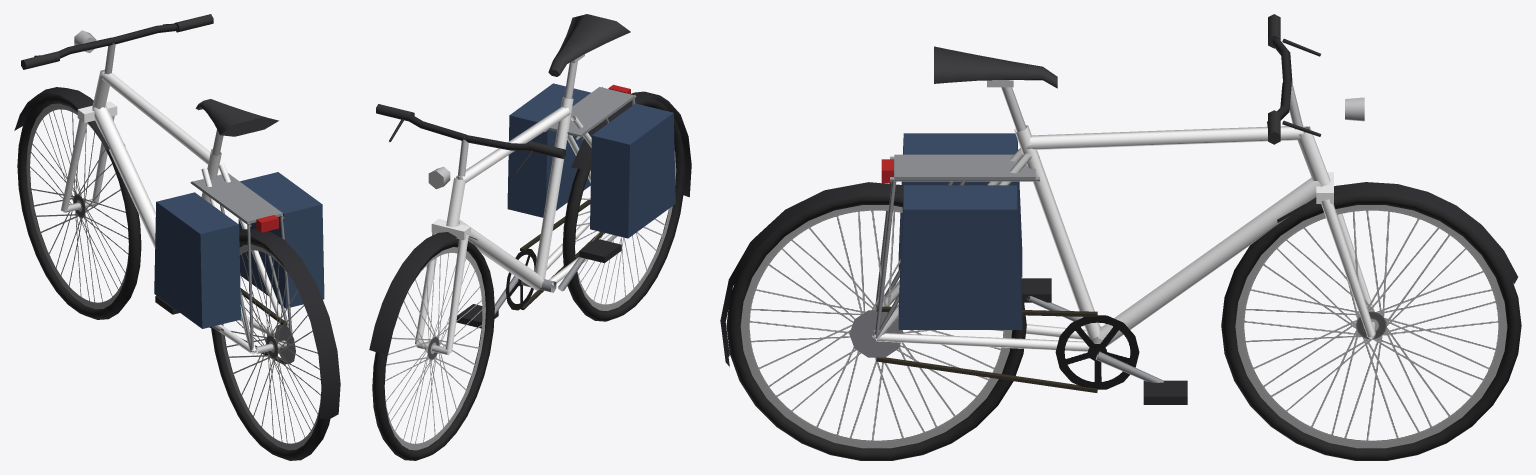
Rendered from trekking.glb.
The picture shows the model from 3 angles, left to right: view 1: azimuth 30°, elevation 25°; view 2: azimuth 150°, elevation 25°; view 3: azimuth 270°, elevation 25°; orthographic projection. The views are drawn at different scales.
Parts seen in each view (by area): view 1: bike; view 2: bike; view 3: bike.
Part boxes in pixels (x1,y1,x2,y2): bike: [14, 14, 340, 460]; bike: [369, 14, 691, 460]; bike: [720, 14, 1521, 460].
Bounding box in the file's own units: 0.63 × 1.01 × 1.81.
Materials: 1 (1 with a texture image).
